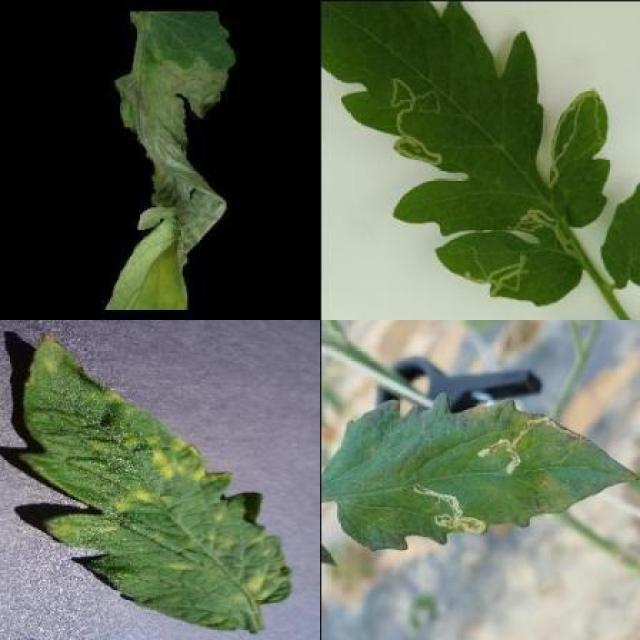Late Blight: (100, 12, 237, 309)
Leaf Miner: (320, 0, 610, 309), (320, 391, 639, 553)
Leaf Mold: (20, 329, 294, 632)
